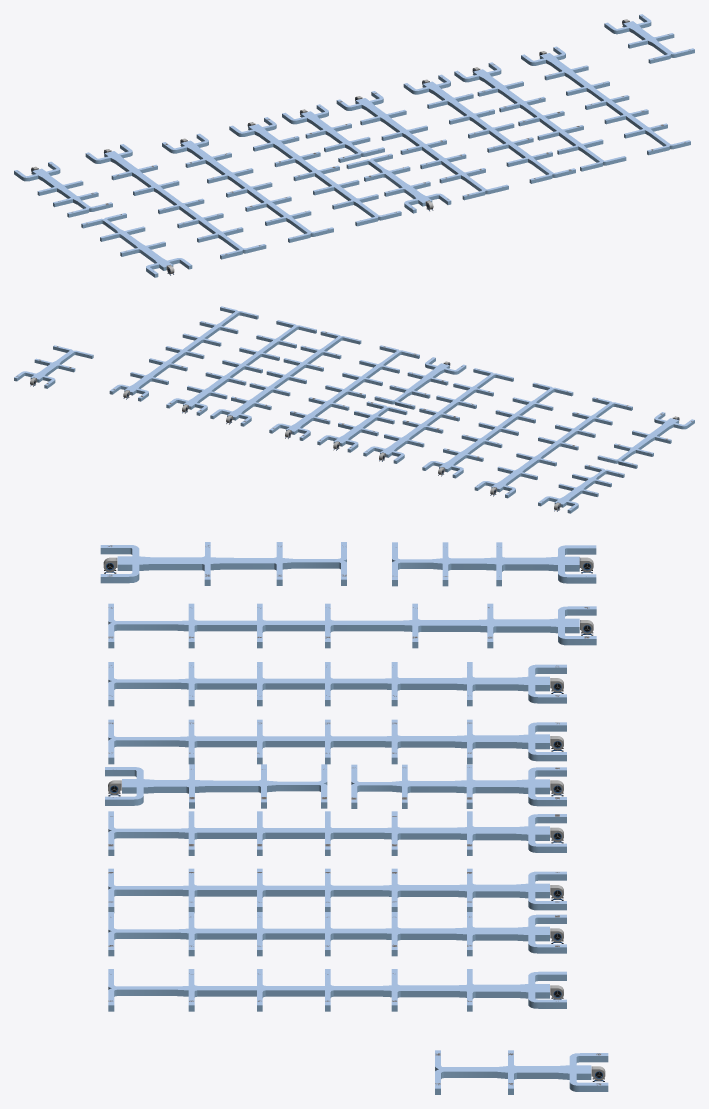
Rendered from LXWZ_2_3F_FG.glb.
3 views of the same model, one above another, from view 1: azimuth 30°, elevation 25°; view 2: azimuth 150°, elevation 25°; view 3: azimuth 270°, elevation 25° (orthographic). The views are drawn at different scales.
Size of the model in its own units: 92.25 by 1.03 by 36.21.
4 materials, 2 textured.
